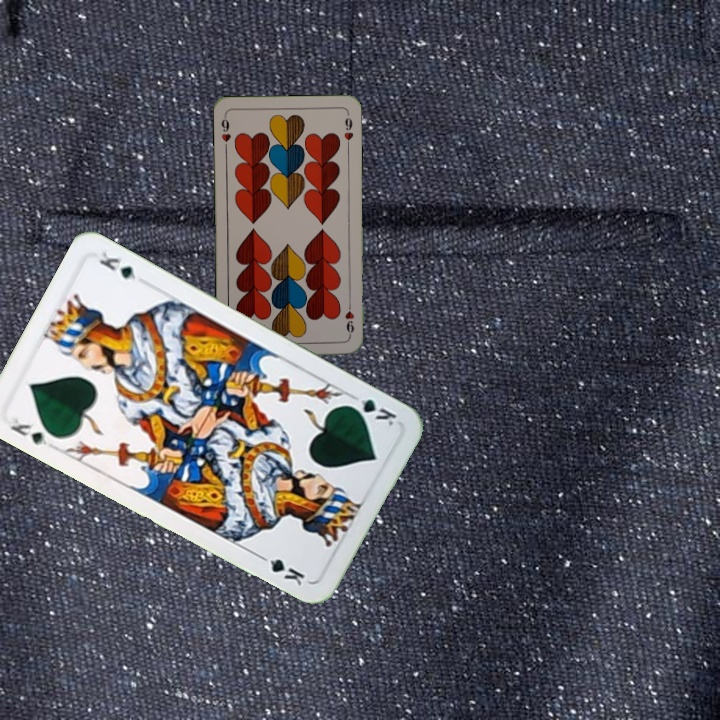GK: (343, 390, 399, 430), (6, 413, 60, 448)
H9: (217, 111, 233, 152), (341, 298, 357, 339)
